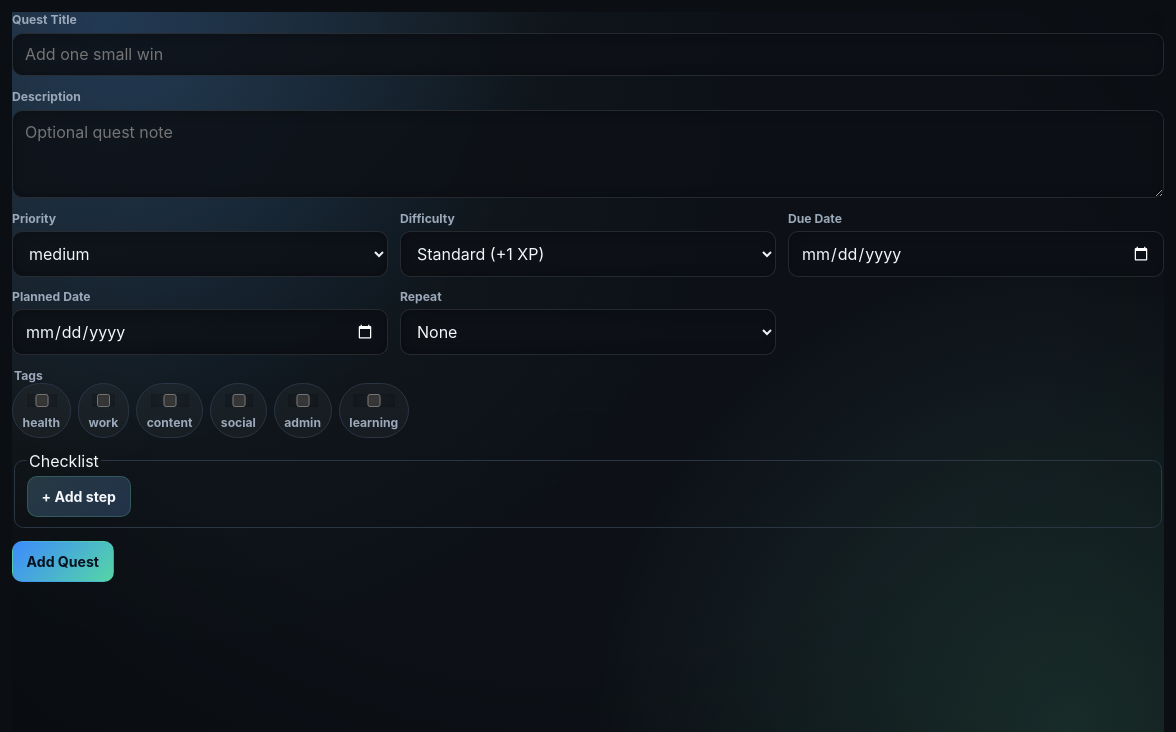
Test: task components › validates task title before submitting
Click the button "Add Quest" at (63, 561), box [12, 541, 114, 582]
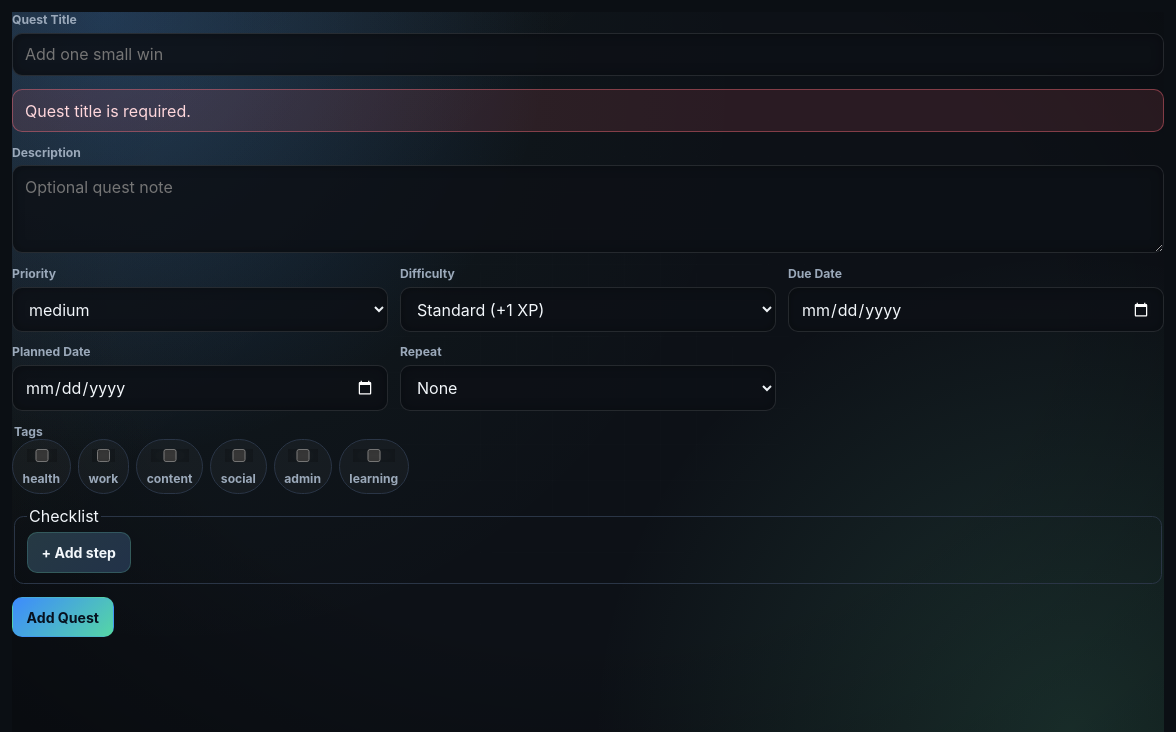
Check: the message reads "Quest title is required.", box [25, 100, 191, 120]
